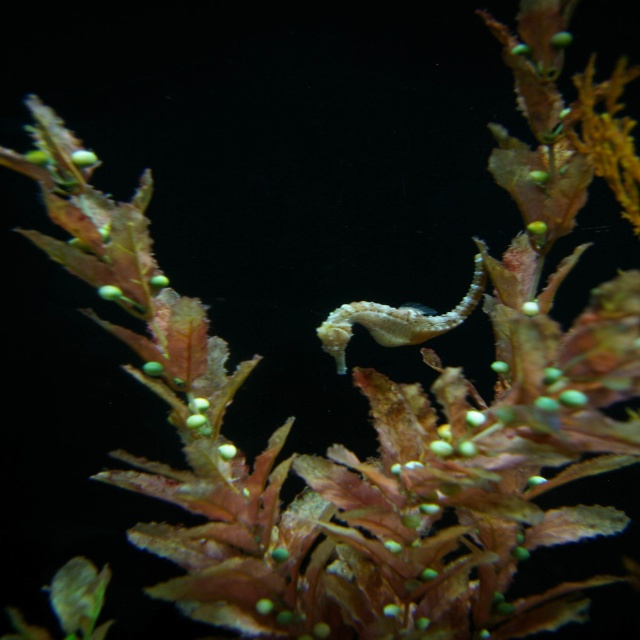Seahorse: (317, 253, 486, 375)
